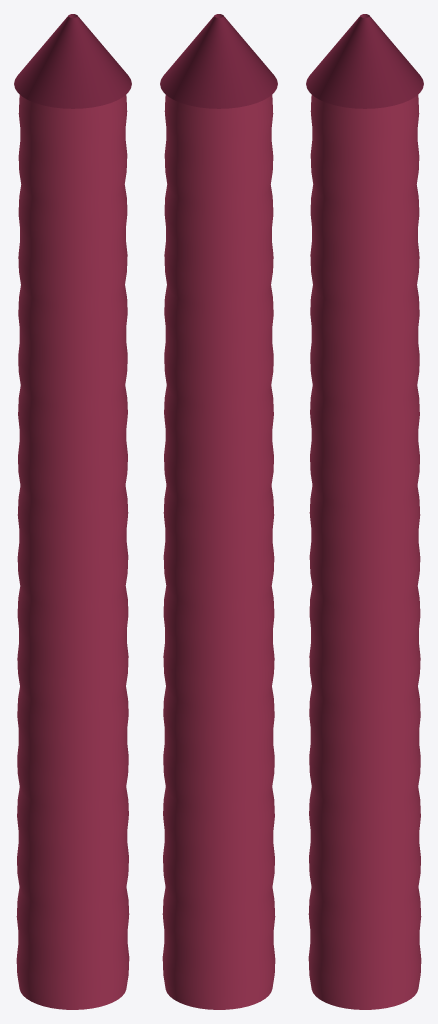
Rendered from castle_tower_50m.glb.
3 views of the same model, side by side, from view 1: azimuth 30°, elevation 25°; view 2: azimuth 150°, elevation 25°; view 3: azimuth 330°, elevation 25° (orthographic).
Parts seen in each view (by area): view 1: CornerTower50m, TowerSpireCrown; view 2: CornerTower50m, TowerSpireCrown; view 3: CornerTower50m, TowerSpireCrown.
Part boxes in pixels (left/top/right/bottom): CornerTower50m: left=16, top=95, right=129, bottom=1009; TowerSpireCrown: left=14, top=14, right=131, bottom=108; CornerTower50m: left=162, top=95, right=275, bottom=1009; TowerSpireCrown: left=160, top=14, right=277, bottom=108; CornerTower50m: left=308, top=95, right=421, bottom=1009; TowerSpireCrown: left=306, top=14, right=423, bottom=108.
Size of the model in its own units: 5.5 by 50 by 5.5.
